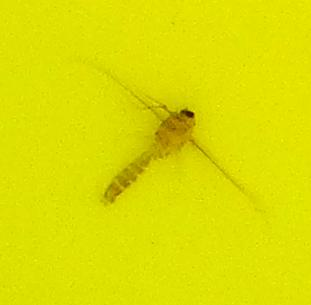Ephemeroptera: (100, 100, 211, 205)
